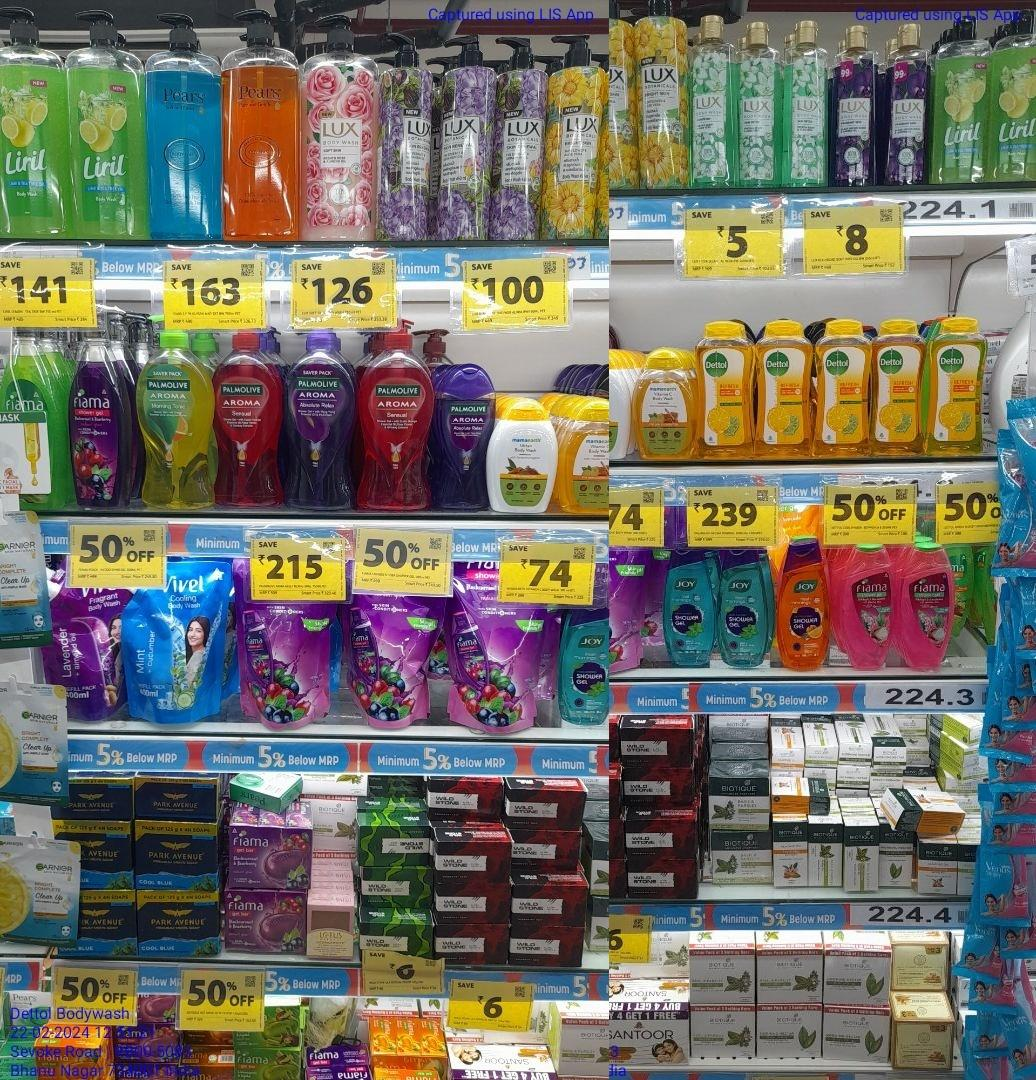Dettol_Bodywash_Refresh: (695, 318, 754, 458), (757, 318, 812, 460), (928, 317, 984, 456), (818, 318, 871, 457), (873, 319, 923, 456)
Fiama_Shower_Gel_Patchouli_and_Macadamia_250ML: (901, 539, 950, 672), (841, 545, 891, 671)
Joy_Shower_Gel_Mandarin_and_Lemongrass_250ML: (776, 536, 828, 670)
Joy_Shower_Gel_Mint_and_Eucalyptus_250ML: (561, 599, 608, 730), (719, 548, 768, 667), (669, 548, 714, 668)
Liril_Lime_and_Tea_Tree_Oil_Body_Wash_250ML: (933, 14, 988, 183), (991, 9, 1036, 180)
Lux_Black_Orchid_Scent_and_Juniper_Oil_Body_Wash_245ML: (882, 19, 929, 184), (829, 23, 876, 185)
Lux_Body_Wash_Skin_Detox_Freesia_Scent_and_Alove_Vera_245ML: (689, 14, 737, 187), (738, 14, 782, 190), (783, 16, 826, 185)
Palmolive_Aroma_Relax_250ML: (434, 362, 486, 512)
